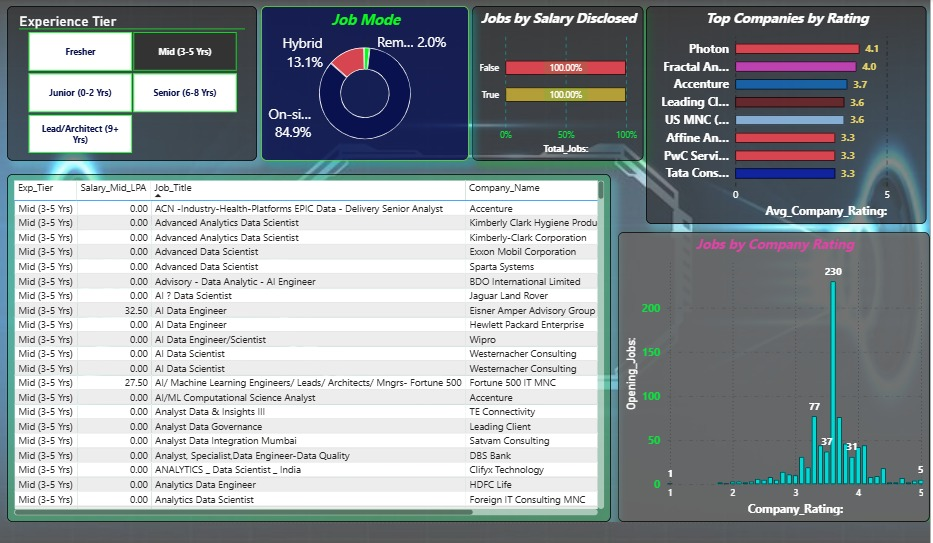

This screenshot's page, from the dashboard's own definition file:
{"tool":"powerbi","page":{"name":"Page 4","canvas":[1280,720],"ordinal":3},"visuals":[{"type":"clusteredColumnChart","title":"Jobs by Company Rating","fields":{"Category":["indian_tech_jobs_2026.company_rating"],"Y":["CountNonNull(indian_tech_jobs_2026.job_id)"]},"box":[850.6,320.7,429.4,399.1],"z":0},{"type":"hundredPercentStackedBarChart","title":"Jobs by Salary Disclosed","fields":{"Category":["indian_tech_jobs_2026.salary_disclosed"],"Y":["CountNonNull(indian_tech_jobs_2026.job_id)"]},"box":[649.6,9.6,236,213.3],"z":1000},{"type":"barChart","title":"Top Companies by Rating","fields":{"Category":["indian_tech_jobs_2026.company_name"],"Y":["Avg(indian_tech_jobs_2026.company_rating)"]},"box":[889.1,9.6,386,300],"z":2000},{"type":"tableEx","fields":{"Values":["indian_tech_jobs_2026.experience_tier","indian_tech_jobs_2026.salary_midpoint_lpa","indian_tech_jobs_2026.job_title","indian_tech_jobs_2026.company_name","indian_tech_jobs_2026.primary_city"]},"box":[9.6,240.9,831.3,479],"z":3000},{"type":"slicer","fields":{"Values":["indian_tech_jobs_2026.experience_tier"]},"box":[9.6,9.6,344,213.3],"z":4000},{"type":"donutChart","title":"Job Mode","fields":{"Category":["indian_tech_jobs_2026.work_mode"],"Y":["CountNonNull(indian_tech_jobs_2026.job_id)"]},"box":[359.2,9.6,286,213.3],"z":5000}]}

Visuals, with their boxes on the page's 1280x720 design canvas (x1, y1, x2, y2). These are canvas units, not pixel positions in the 933x543 screenshot, which may show the page scaled, cropped or inside an application window:
"Jobs by Company Rating" clusteredColumnChart: 851/321/1280/720
"Jobs by Salary Disclosed" hundredPercentStackedBarChart: 650/10/886/223
"Top Companies by Rating" barChart: 889/10/1275/310
tableEx - indian_tech_jobs_2026.experience_tier x indian_tech_jobs_2026.salary_midpoint_lpa: 10/241/841/720
slicer - indian_tech_jobs_2026.experience_tier: 10/10/354/223
"Job Mode" donutChart: 359/10/645/223
